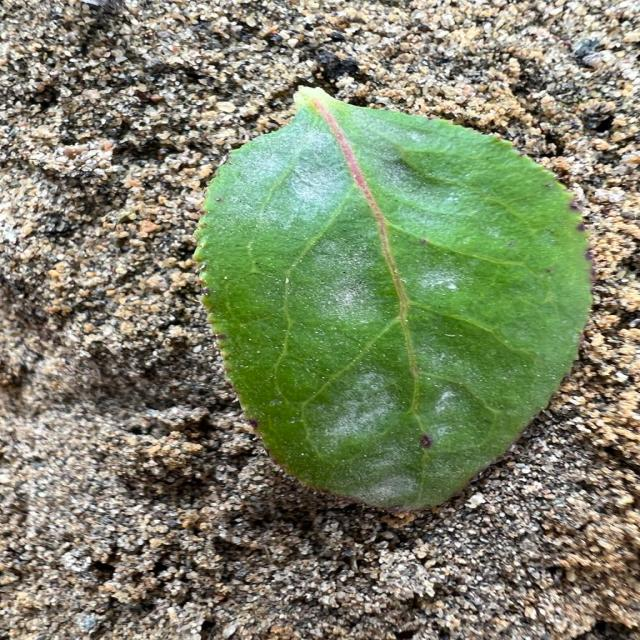Hojas con oidiosis: (192, 84, 594, 517)
